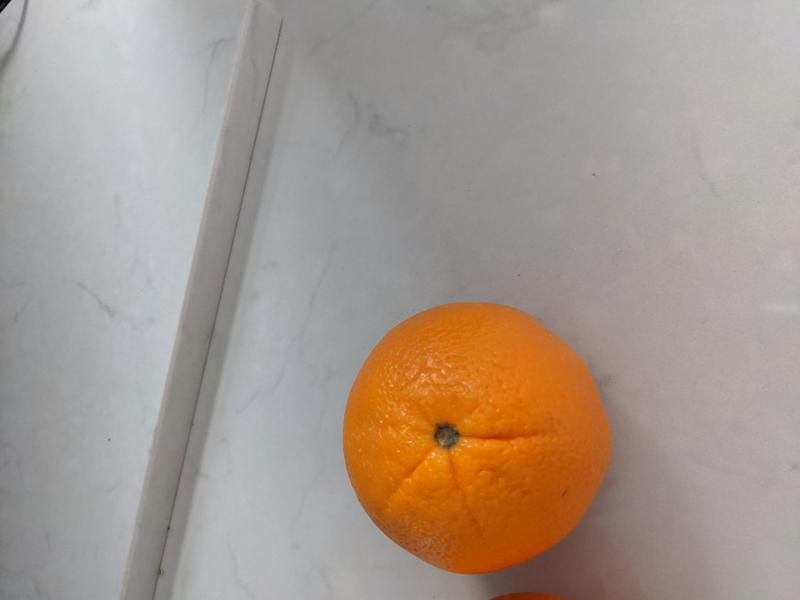orange: (343, 303, 613, 575)
